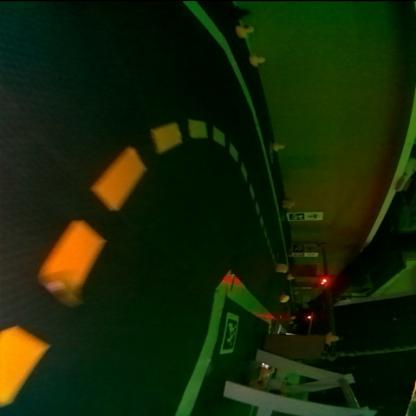Duckie: (326, 332, 340, 345), (251, 56, 265, 66), (264, 366, 275, 377), (251, 380, 266, 388), (278, 264, 290, 272), (283, 202, 295, 208), (274, 144, 286, 150), (282, 296, 290, 302), (287, 274, 294, 280)
Intersection sign: (309, 212, 321, 220)
QR code: (223, 312, 240, 352), (290, 212, 304, 220)
